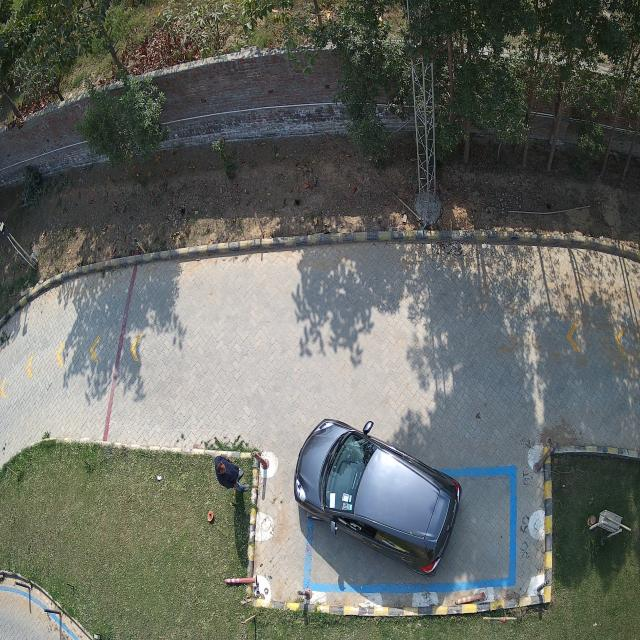car: (294, 420, 461, 575)
